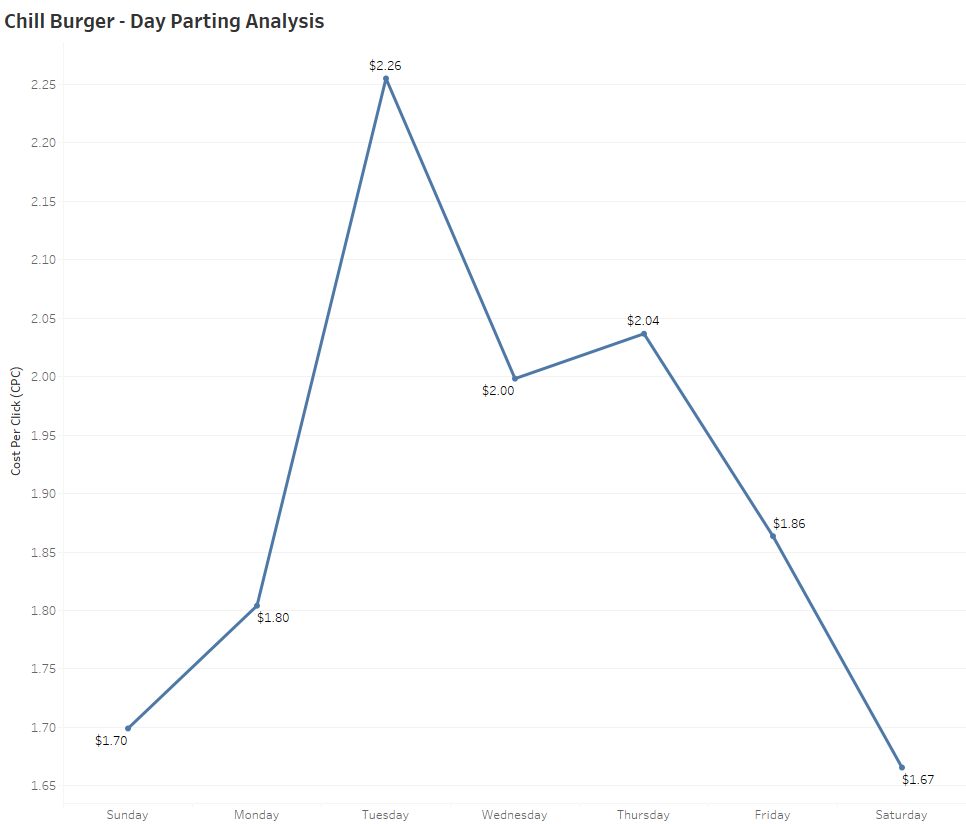

Layout of this report page (visuals, bound fields, positions):
{"tool":"tableau","page":{"name":"Chill Burger - Day Parting Analysis DB","canvas":[1000,800],"ordinal":0},"visuals":[{"type":"worksheet","title":"Chill Burger - Day Parting Analysis","mark":"Automatic","rows":["Calculation_3018819138090778627"],"cols":["date"],"box":[8,8,984,784]}]}

Visuals, with their boxes on the page's 1000x800 design canvas (x1, y1, x2, y2). These are canvas units, not pixel positions in the 966x824 screenshot, which may show the page scaled, cropped or inside an application window:
"Chill Burger - Day Parting Analysis" worksheet: (8, 8, 992, 792)
